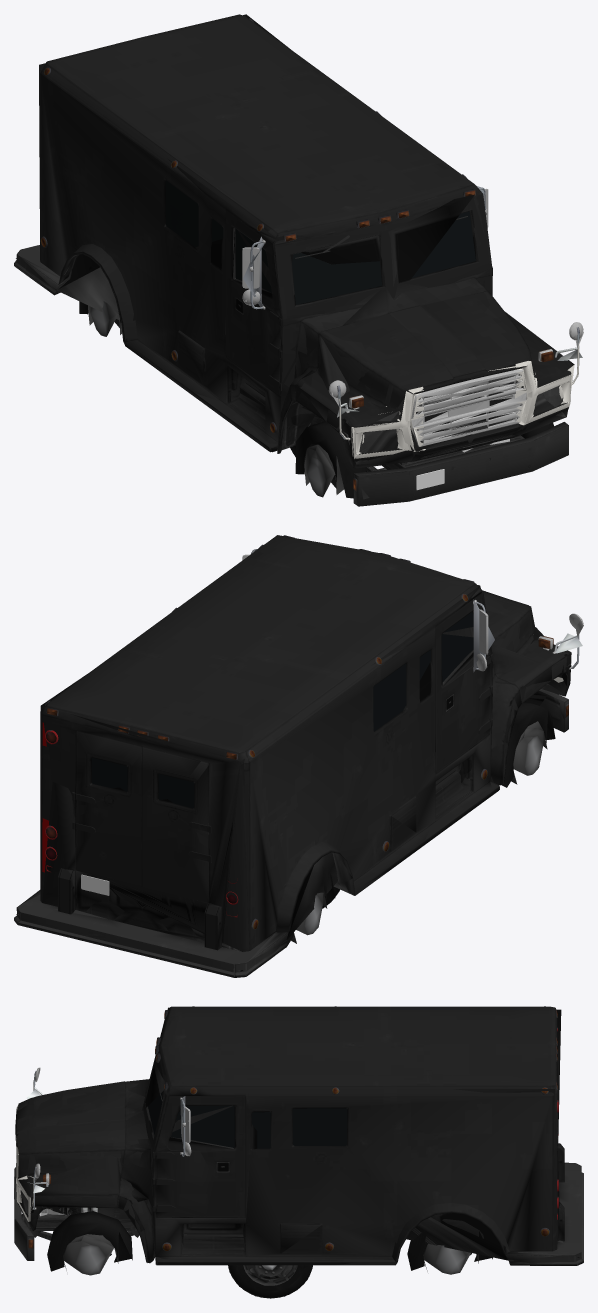
File: truck8.glb
3 views of the same model, one above another, from view 1: azimuth 30°, elevation 25°; view 2: azimuth 150°, elevation 25°; view 3: azimuth 270°, elevation 25° (orthographic). The views are drawn at different scales.
Parts seen in each view (by area): view 1: body0, body1, body2; view 2: body0, body1, body2; view 3: body1, body0, body2, wheel0, wheel1.
Boxes of the visible parts, x1=… form: body0: x1=14, y1=14, x2=583, y2=506; body1: x1=14, y1=14, x2=582, y2=506; body2: x1=16, y1=14, x2=583, y2=499; body0: x1=14, y1=535, x2=583, y2=977; body1: x1=14, y1=535, x2=583, y2=977; body2: x1=16, y1=549, x2=583, y2=971; body1: x1=14, y1=1006, x2=583, y2=1265; body0: x1=14, y1=1006, x2=583, y2=1265; body2: x1=16, y1=1007, x2=579, y2=1275; wheel0: x1=228, y1=1265, x2=312, y2=1298; wheel1: x1=229, y1=1265, x2=312, y2=1298.
Bounding box in the file's own units: 2.68 × 3.04 × 6.3.
Materials: 6 (3 with a texture image).
